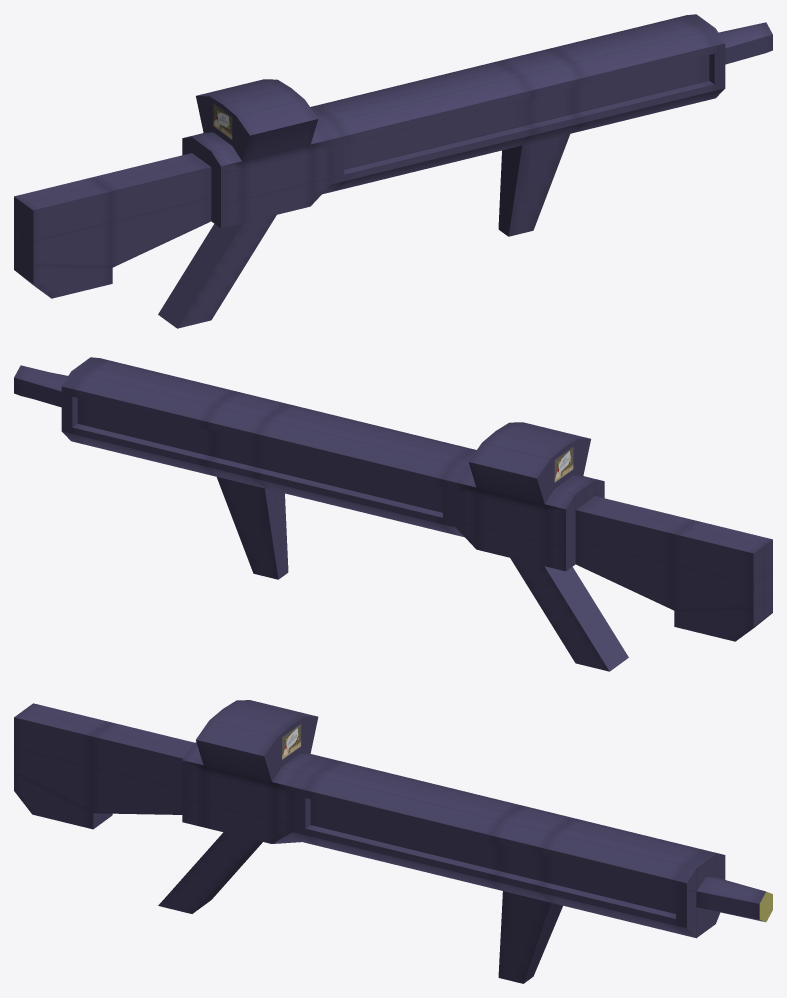
File: SM_sgxFall_Temp_M_Rifle-object_01.fbx
The picture shows the model from 3 angles, top to bottom: view 1: azimuth 30°, elevation 25°; view 2: azimuth 150°, elevation 25°; view 3: azimuth 330°, elevation 25°; orthographic projection.
Visible parts, largest first — view 1: marksmenRifle1; view 2: marksmenRifle1; view 3: marksmenRifle1.
Part boxes in pixels (x1,y1,x2,y2): marksmenRifle1: (14, 14, 772, 328); marksmenRifle1: (14, 357, 772, 671); marksmenRifle1: (14, 700, 772, 983).
Size of the model in its own units: 70.04 by 18.33 by 8.87.
